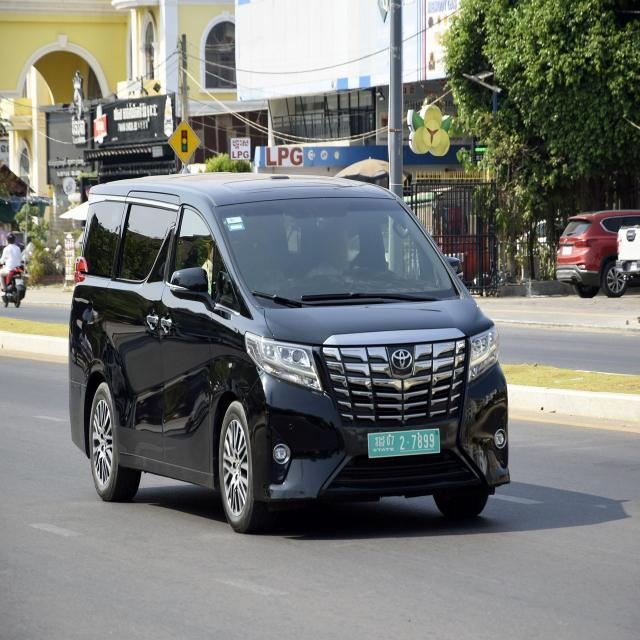State: (375, 435, 386, 447)
